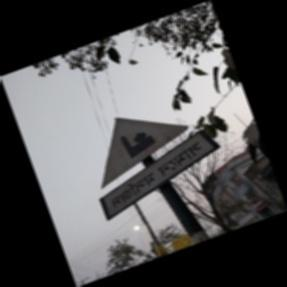Mosque in front: (100, 114, 225, 219)
